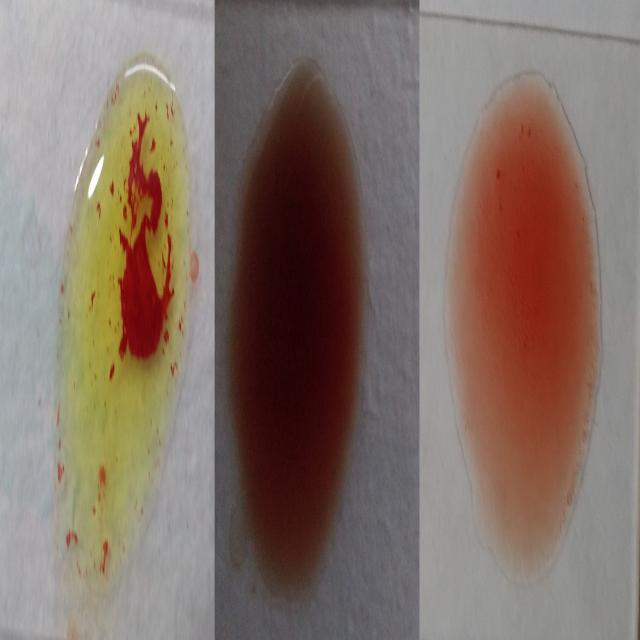B: (64, 62, 184, 552)
